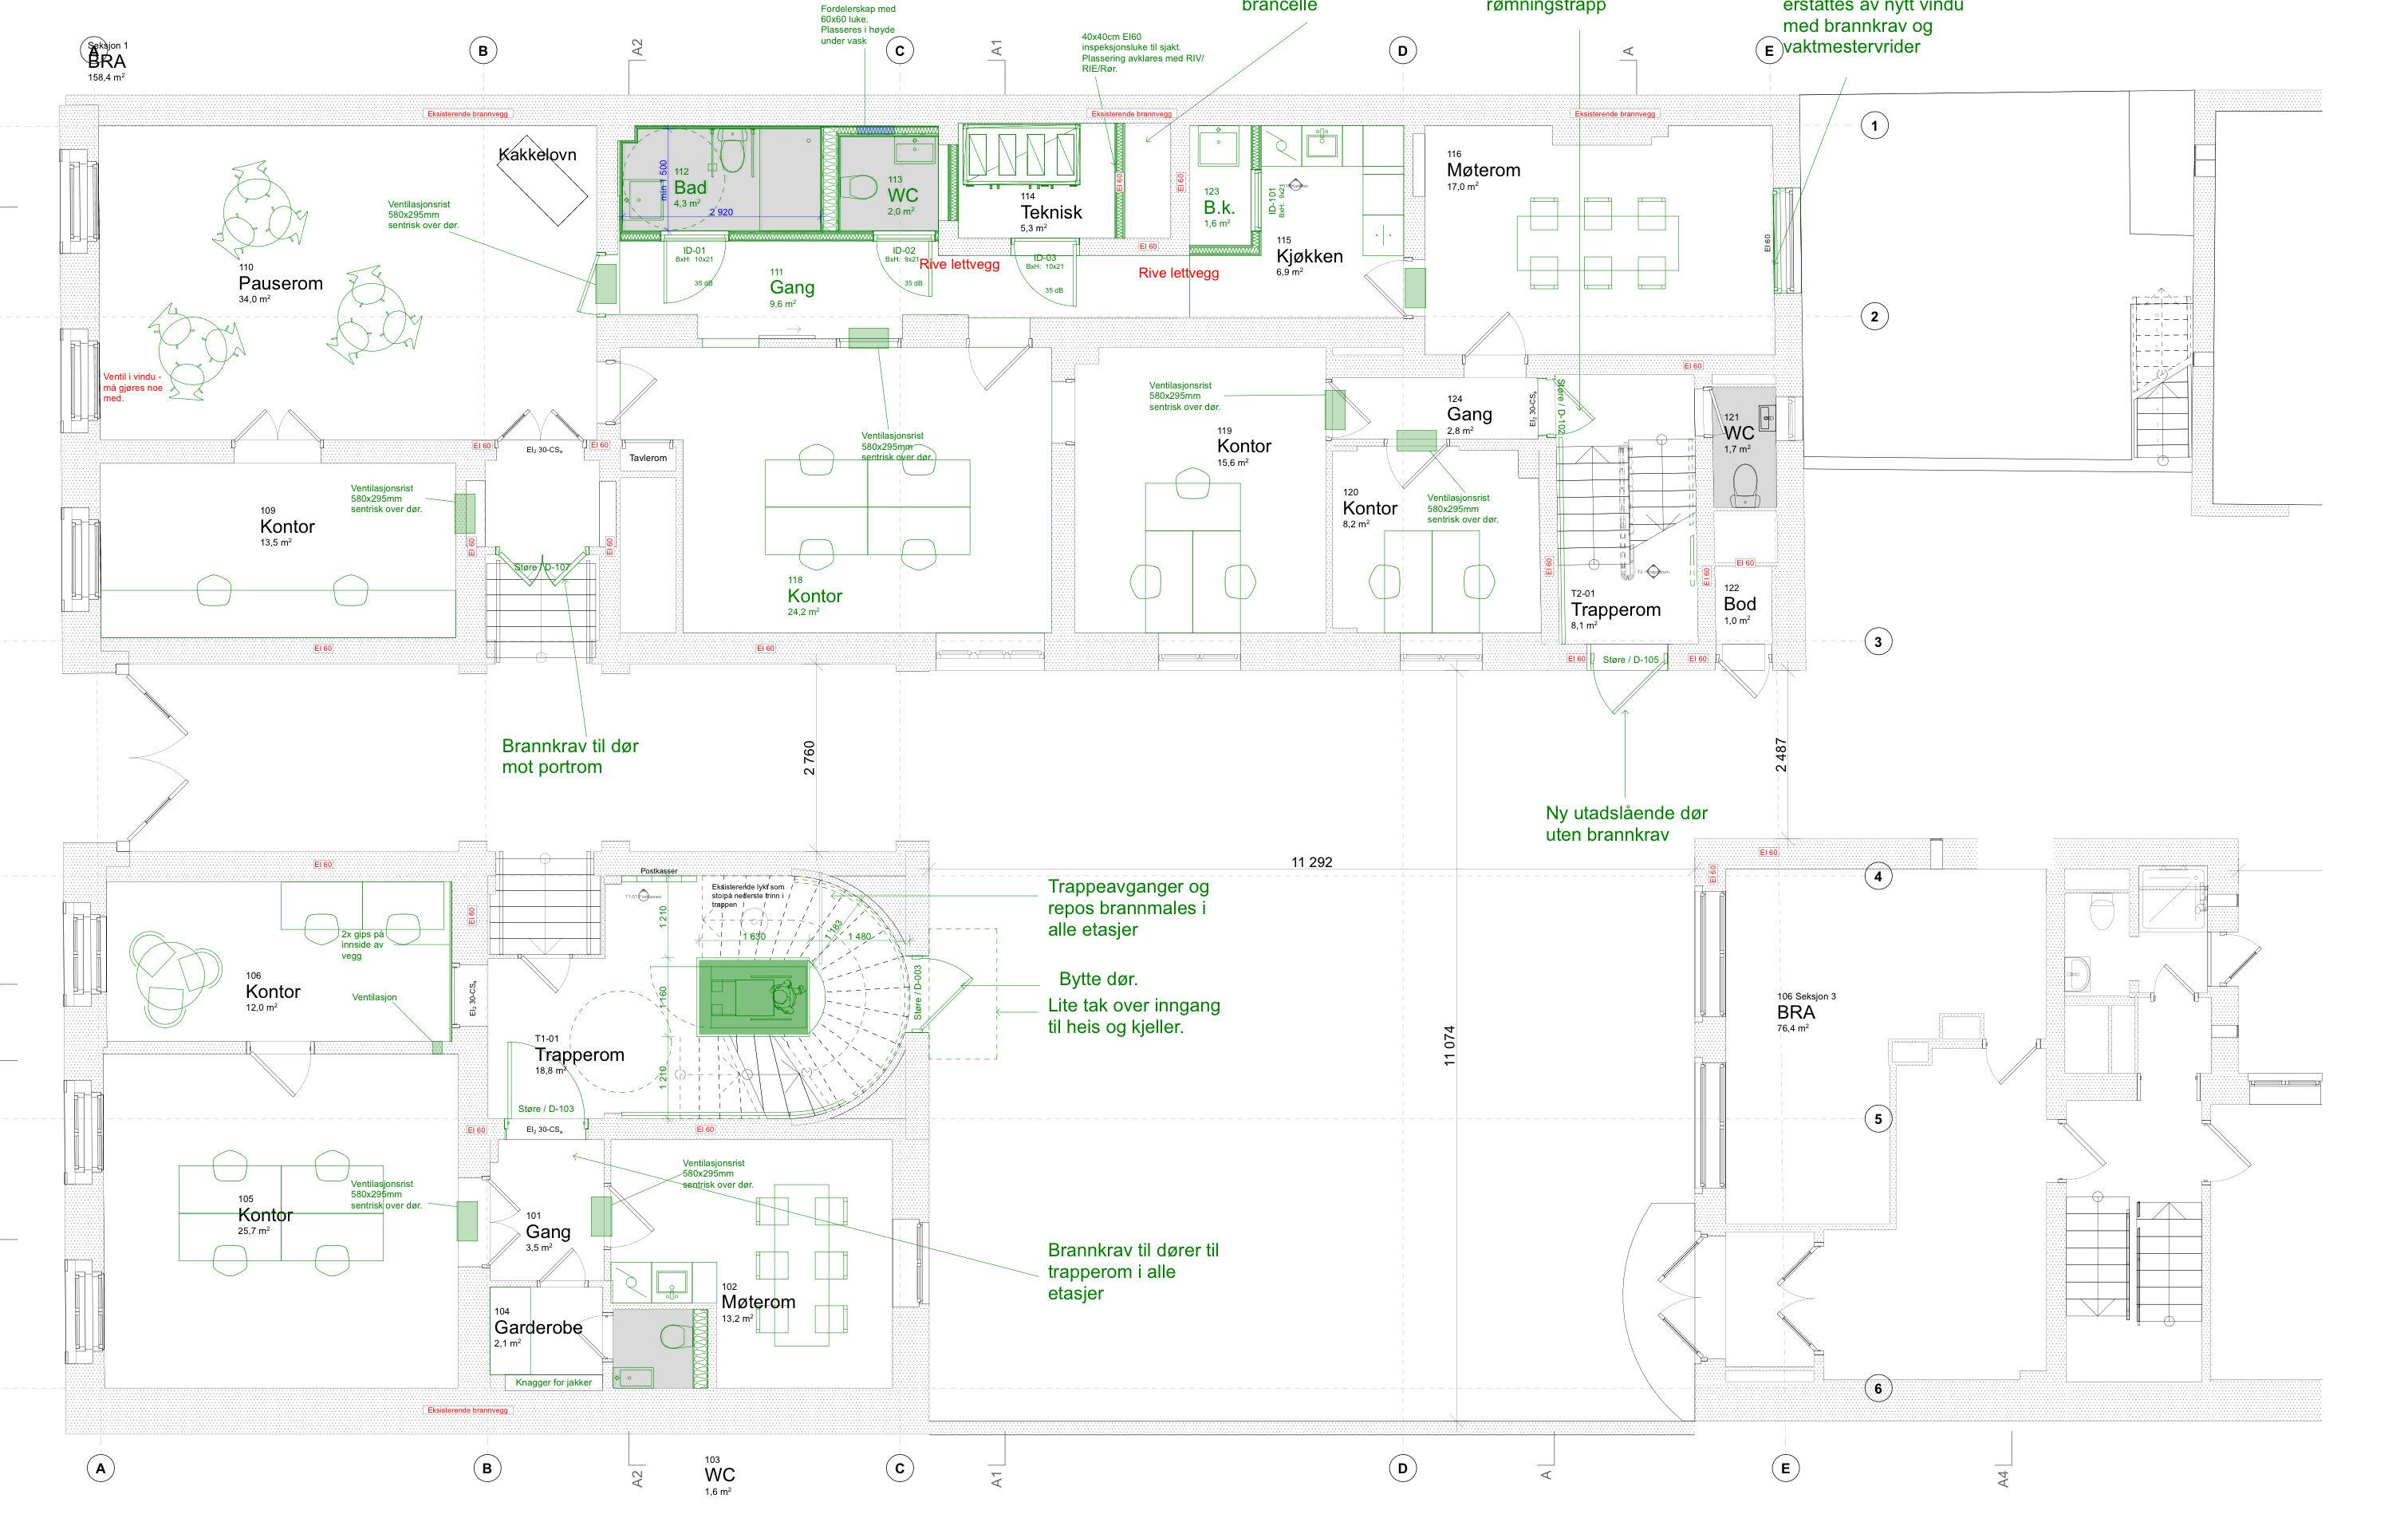room: (85, 117, 607, 447), (614, 338, 1058, 642), (96, 1048, 466, 1399), (1704, 855, 2051, 1226), (469, 860, 915, 1129), (1414, 113, 1787, 366), (1062, 344, 1330, 640), (607, 1132, 900, 1399), (87, 450, 471, 651), (96, 874, 464, 1048), (1189, 113, 1412, 331), (1329, 443, 1547, 642), (2058, 862, 2227, 1088), (943, 115, 1179, 248), (603, 117, 832, 237), (474, 1134, 609, 1284), (474, 1284, 609, 1399), (832, 115, 943, 235), (1704, 372, 1789, 511), (1704, 565, 1791, 670), (1704, 508, 1789, 565)
